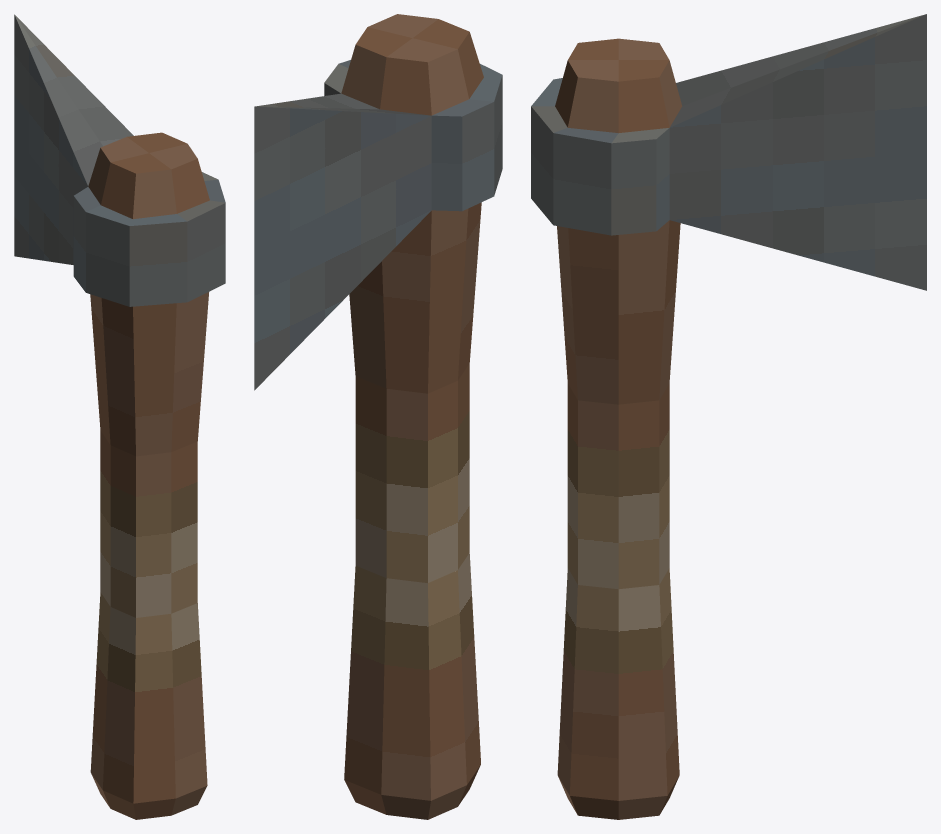
File: axe.glb
3 views of the same model, side by side, from view 1: azimuth 30°, elevation 25°; view 2: azimuth 150°, elevation 25°; view 3: azimuth 270°, elevation 25° (orthographic). The views are drawn at different scales.
Visible parts, largest first — view 1: cube; view 2: cube; view 3: cube.
Part boxes in pixels (<box>): cube: <box>14,14,225,819</box>; cube: <box>254,14,502,819</box>; cube: <box>531,14,926,819</box>.
Size of the model in its own units: 0.215 by 1.06 by 0.4859.
Materials: 1 (1 with a texture image).
